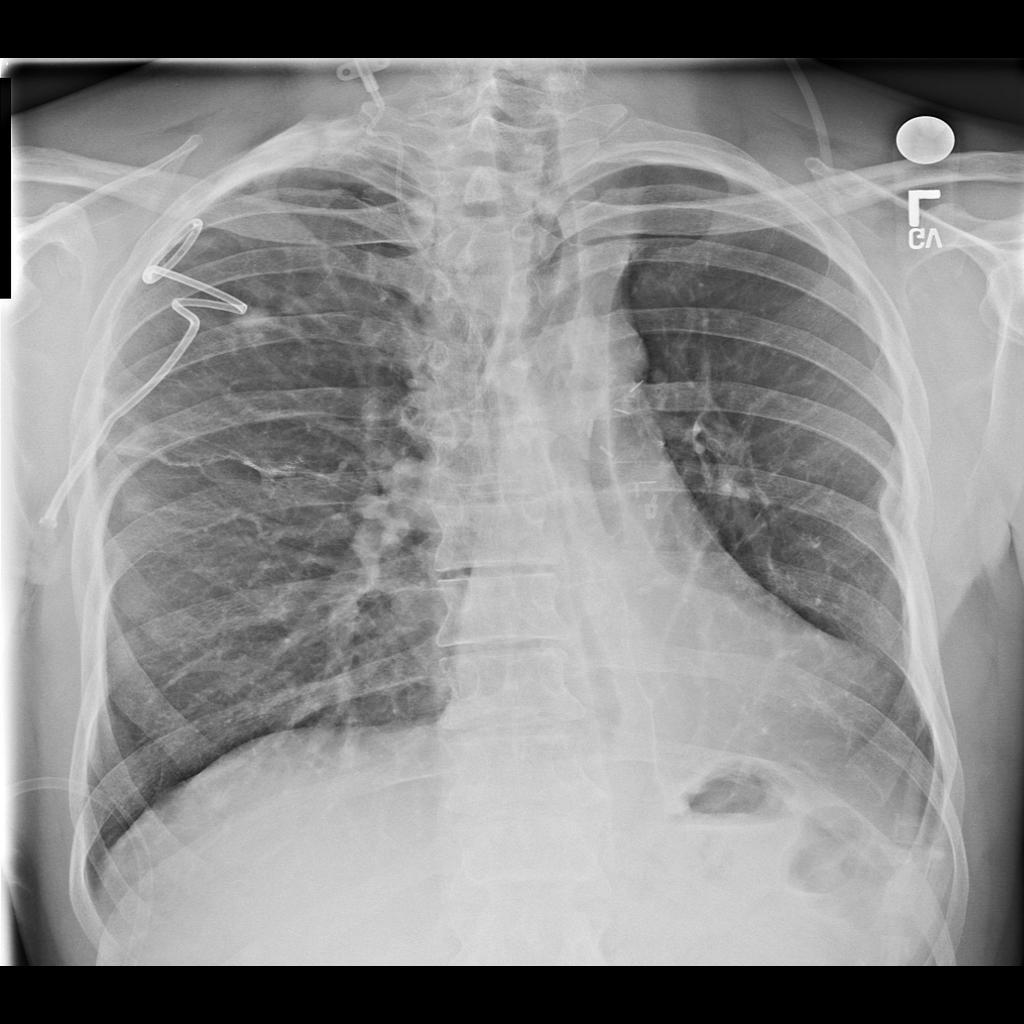Nodule: (236, 311, 273, 334)
